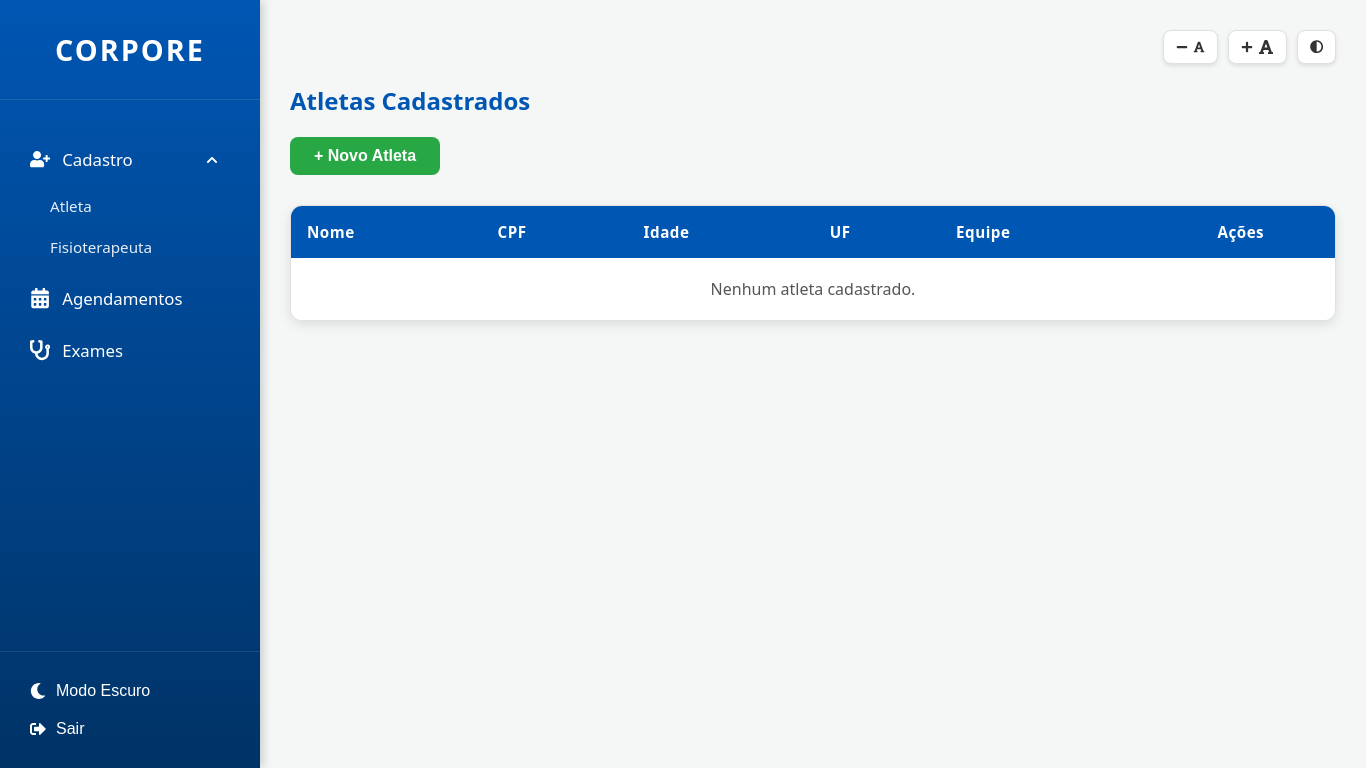
Sistema Corpore - Testes E2E › Deve navegar para Exames e testar as Abas
Navegar pelo menu lateral
Click the link "Exames" at {"x": 77, "y": 351}, box x1=30 y1=339 x2=123 y2=362
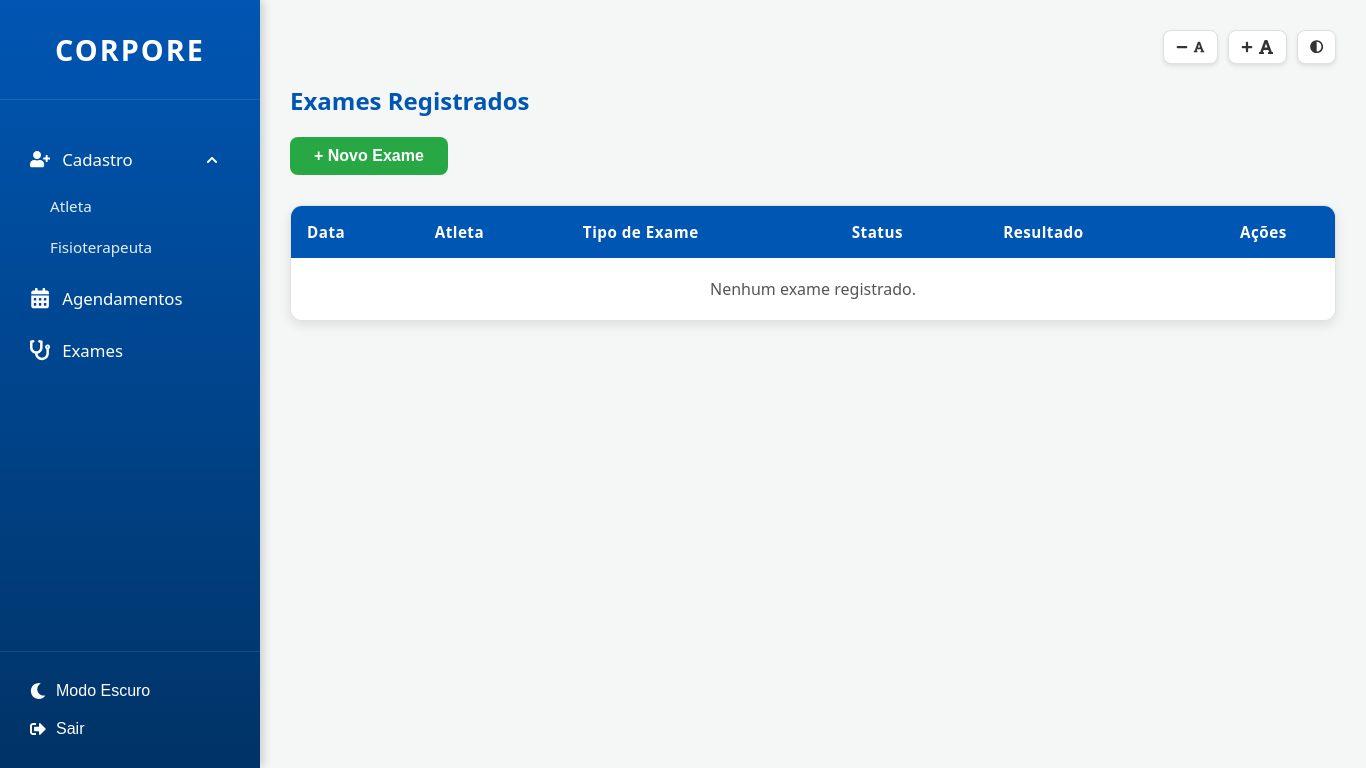
Now the heading "Exames Registrados" is shown, box x1=290 y1=84 x2=530 y2=117
Clicar em Novo Exame
Click the button "+ Novo Exame" at {"x": 369, "y": 156}, box x1=290 y1=137 x2=448 y2=175
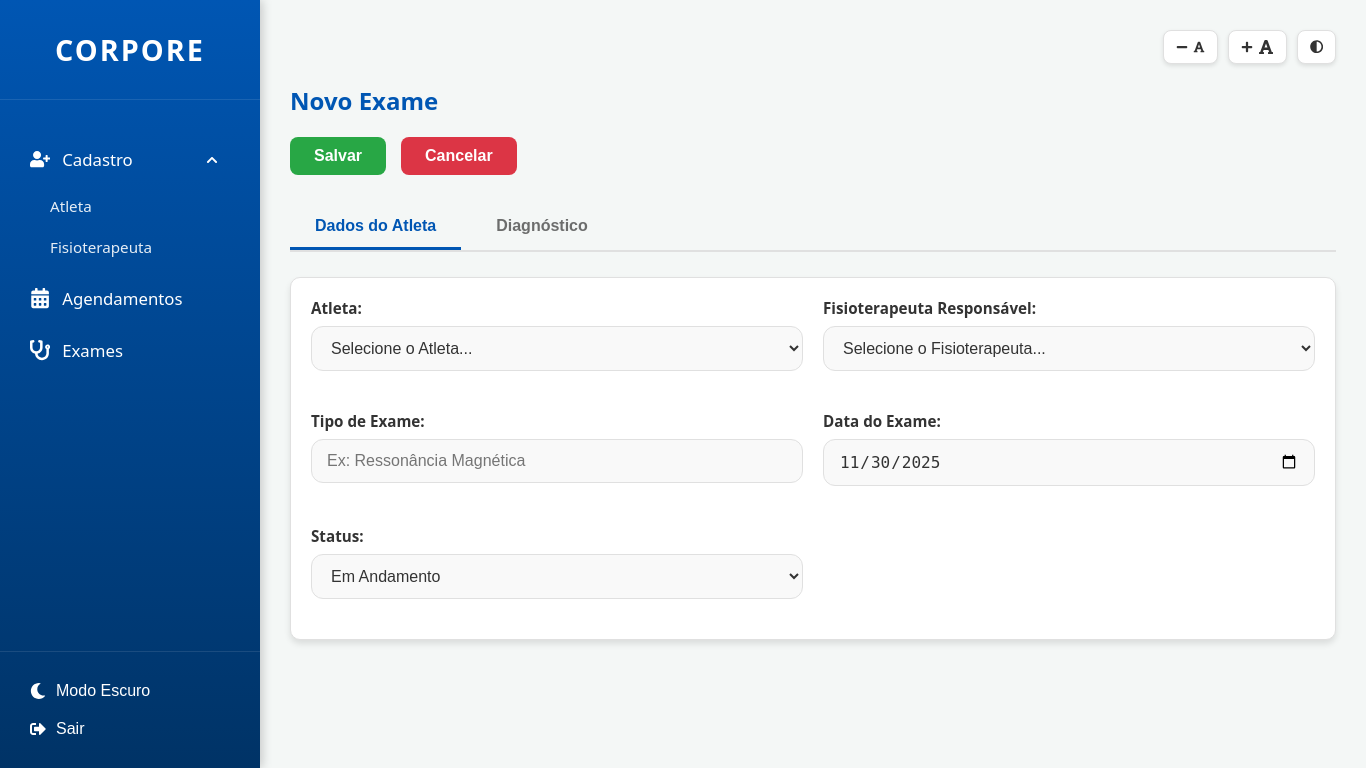
Now the button with class "tab-item" reads "Dados do Atleta", box x1=290 y1=205 x2=461 y2=250
Now the field named "tipoExame" is shown, box x1=311 y1=439 x2=803 y2=483
Mudar para aba "Diagnóstico"
Click the button "Diagnóstico" at {"x": 542, "y": 228}, box x1=471 y1=205 x2=613 y2=250
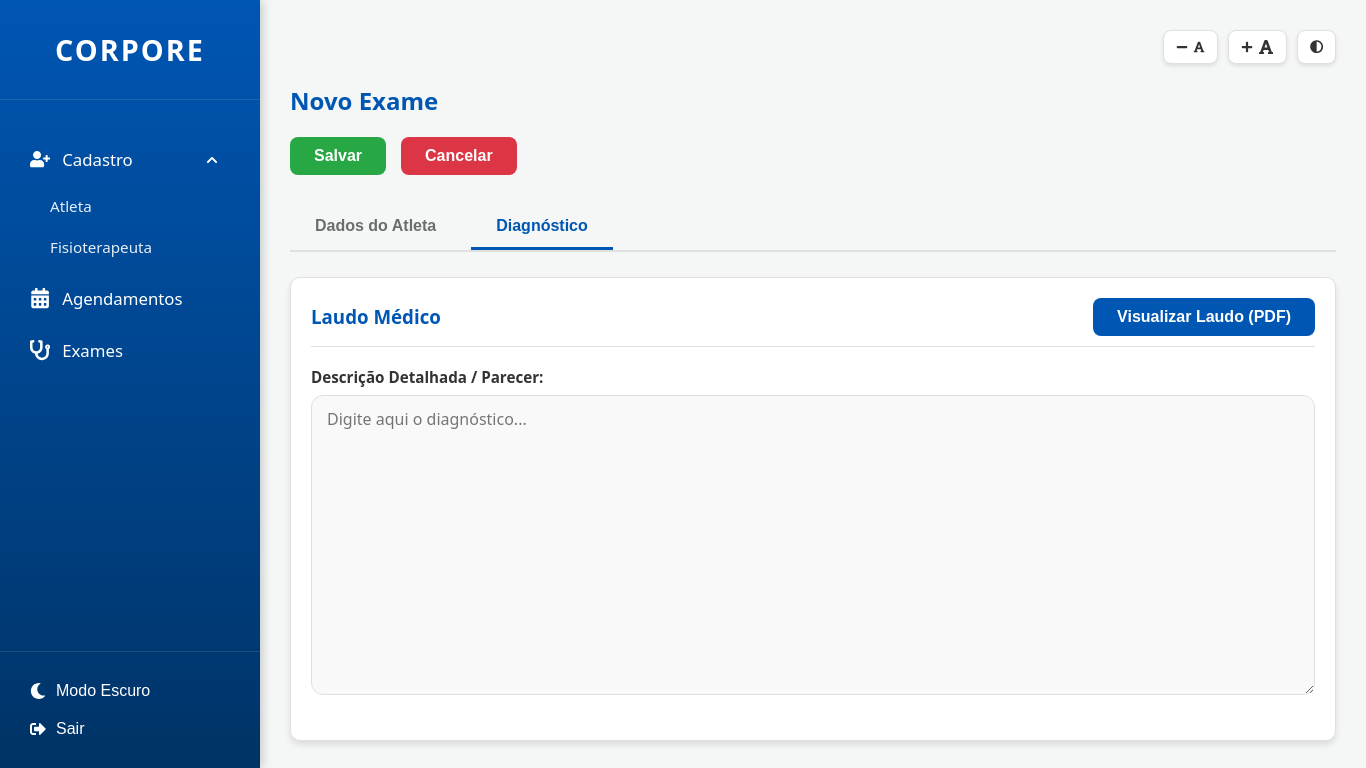
Now the button with class "tab-item" reads "Diagnóstico", box x1=471 y1=205 x2=613 y2=250
Now the heading "Laudo Médico" is shown, box x1=311 y1=304 x2=441 y2=329
Now the text box named "resultado" is shown, box x1=311 y1=395 x2=1315 y2=695
Voltar para aba anterior
Click the button "Dados do Atleta" at {"x": 376, "y": 228}, box x1=290 y1=205 x2=461 y2=250
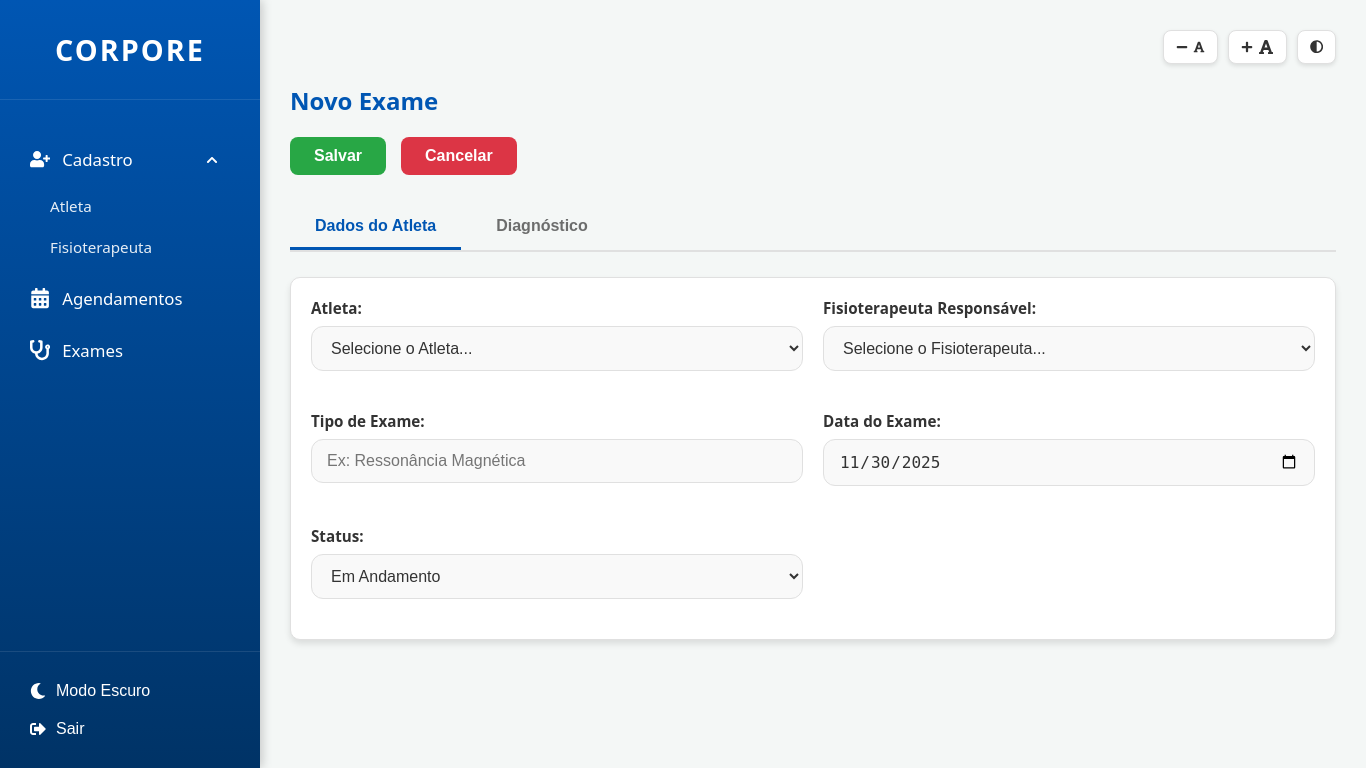
Now the field named "tipoExame" is shown, box x1=311 y1=439 x2=803 y2=483
